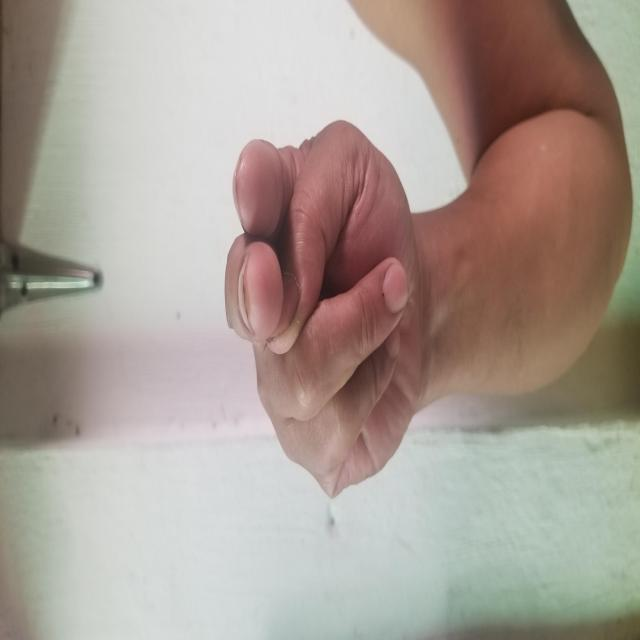N: (138, 224, 521, 421)
